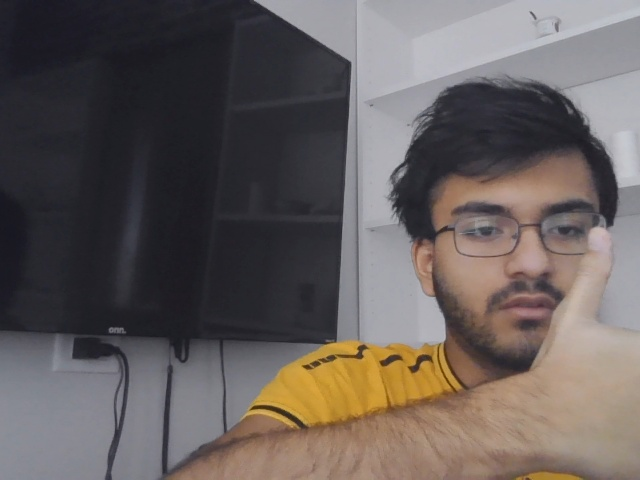ThumbsUp: (523, 226, 640, 480)
